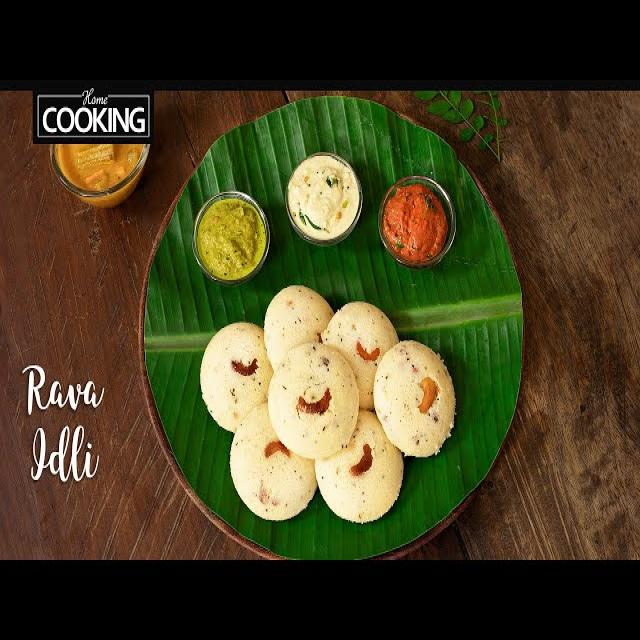rave idli: (367, 341, 465, 464), (272, 343, 364, 462), (196, 311, 279, 436), (313, 429, 408, 535), (219, 433, 318, 530), (328, 294, 402, 419), (266, 282, 327, 359)
